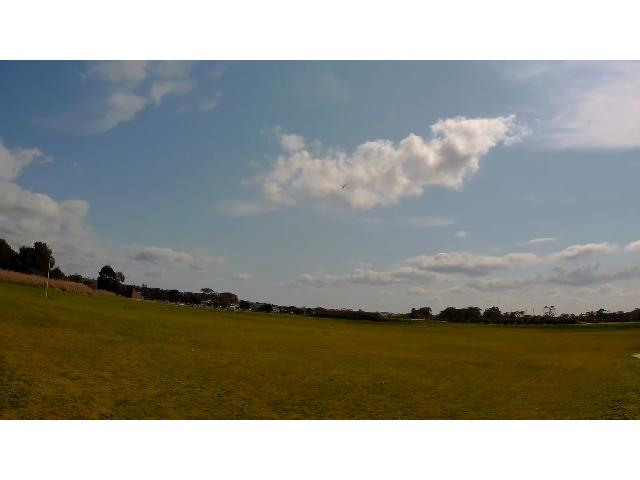Anti-Drone: (327, 175, 363, 196)
